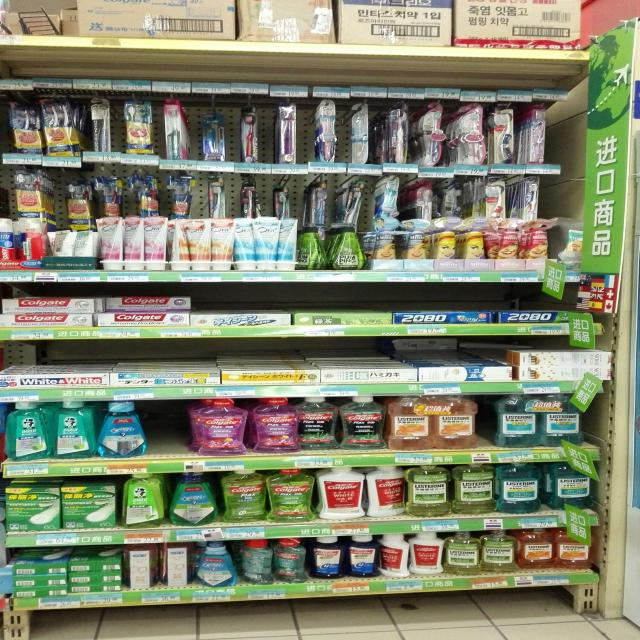empty: (133, 403, 195, 455)
